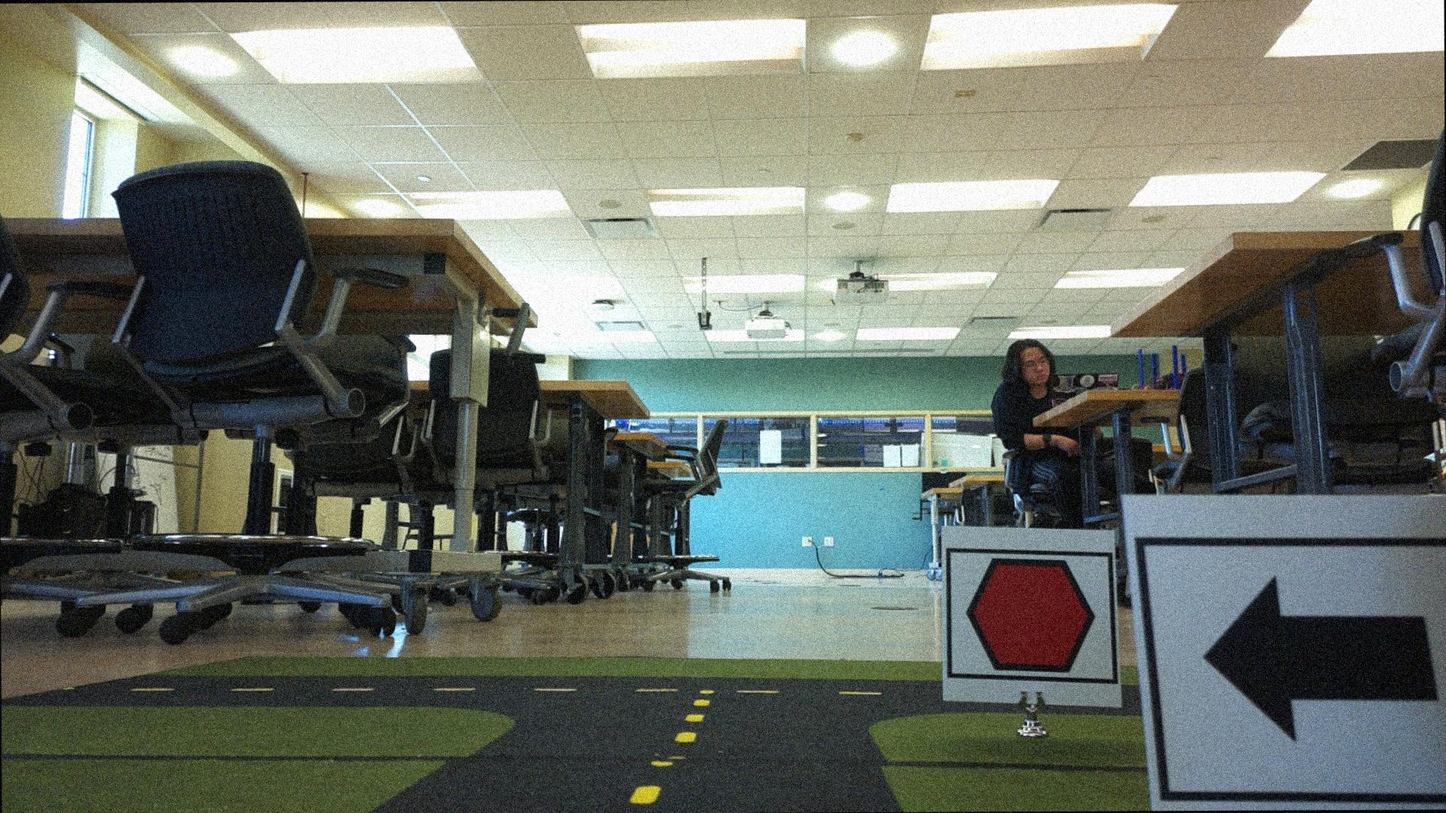stop: (945, 553, 1110, 680)
turnright: (1149, 541, 1442, 796)
yellowline: (629, 697, 712, 805)
